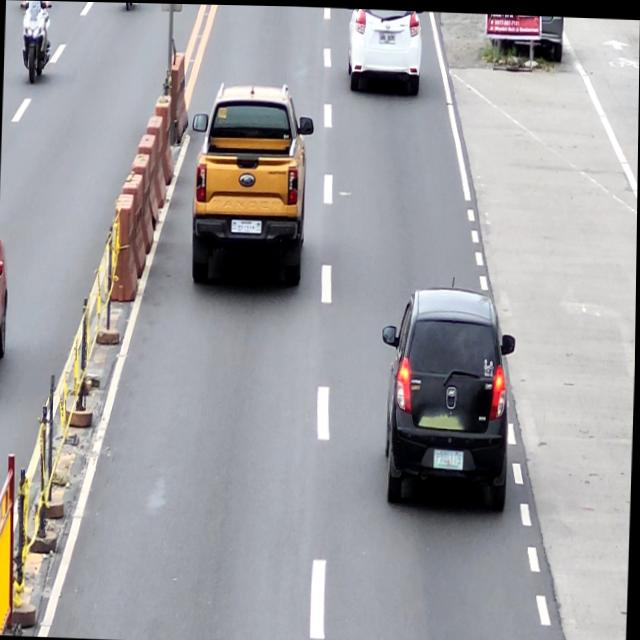Car: (378, 282, 517, 511), (188, 77, 314, 289), (346, 7, 424, 91)
License-Plate: (435, 444, 465, 470), (230, 218, 262, 232), (378, 29, 395, 41)
